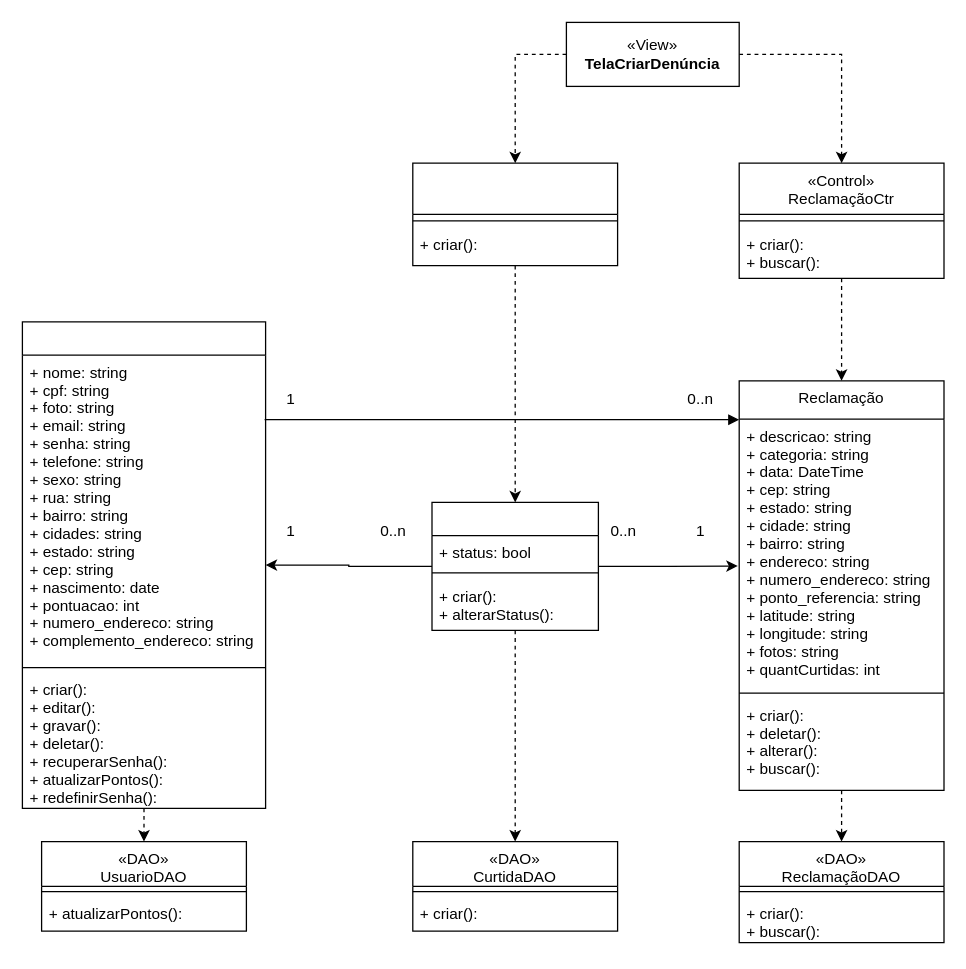
Image size: 966x969. Some labels were removed from this diagram. Here are the shapes that lost their labels. From the top down, the box of each, then its label:
(412, 162, 618, 266): «Control» CurtidaCtr
(21, 321, 266, 808): Usuario
(431, 501, 598, 630): Curtida
